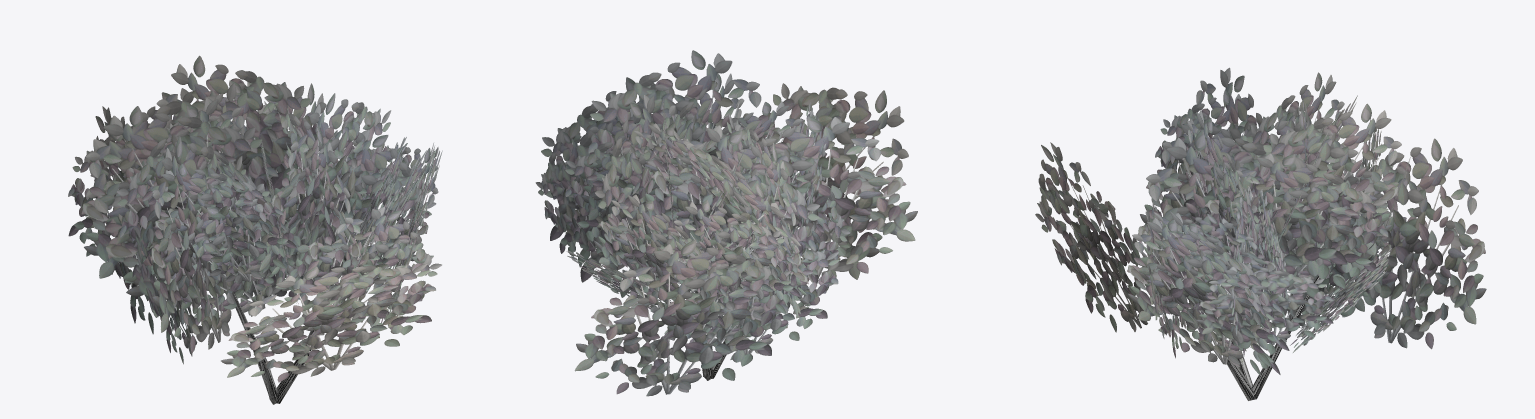
File: bush_round_l1.gltf
3 views of the same model, side by side, from view 1: azimuth 30°, elevation 25°; view 2: azimuth 150°, elevation 25°; view 3: azimuth 270°, elevation 25° (orthographic). The views are drawn at different scales.
Visible parts, largest first — view 1: bush_round_l1; view 2: bush_round_l1; view 3: bush_round_l1.
Boxes of the visible parts, x1,y1,x2,y2 form: bush_round_l1: (68,55,442,404); bush_round_l1: (535,50,917,396); bush_round_l1: (1035,67,1486,400).
Size of the model in its own units: 2.3 by 2.02 by 2.79.
Materials: 2 (2 with a texture image).
